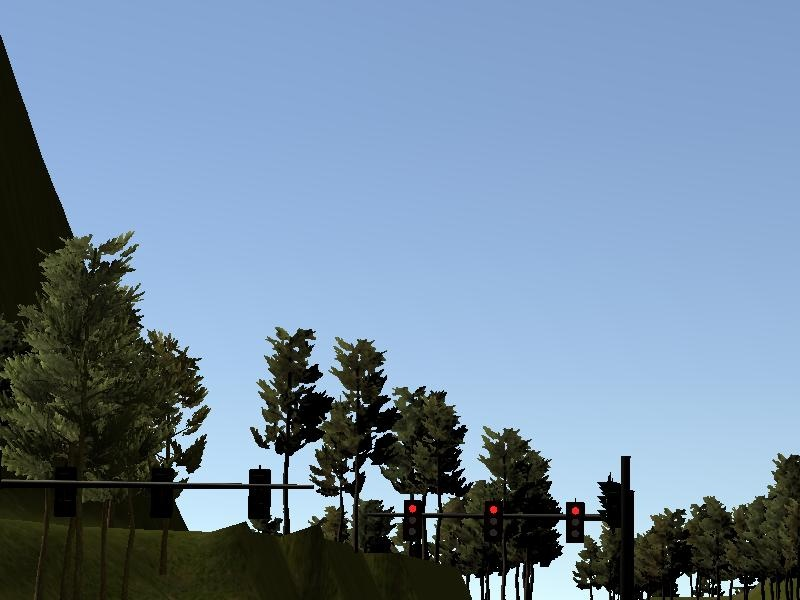traffic_light_red: (395, 497, 604, 546)
